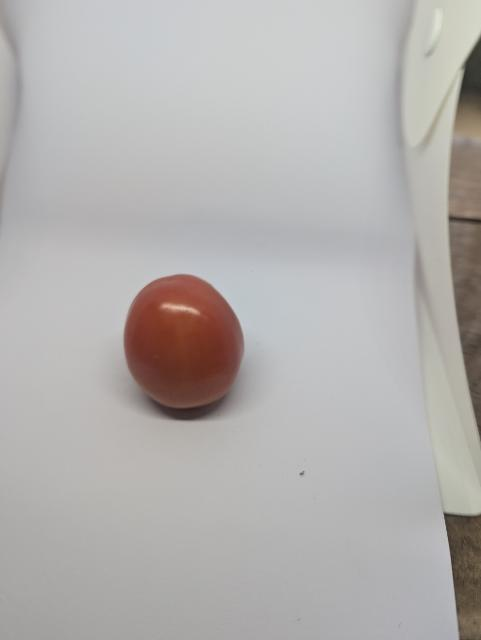red: (121, 272, 247, 413)
